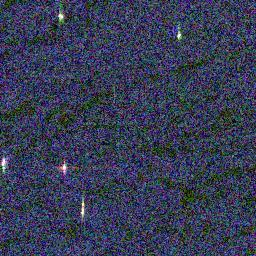Ship: (58, 160, 72, 176), (0, 156, 9, 174), (79, 199, 87, 218), (54, 11, 66, 23), (175, 28, 184, 41)
